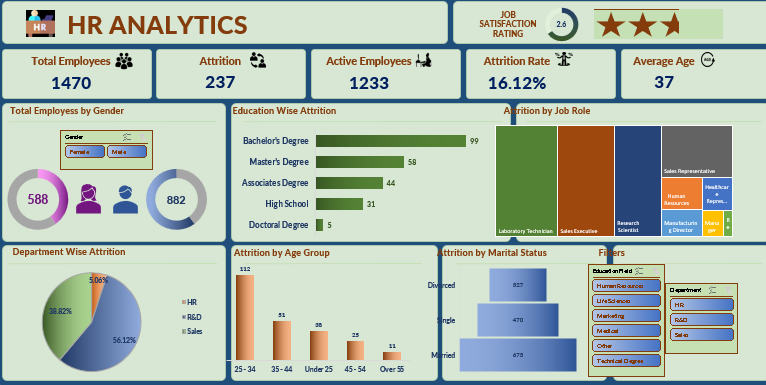

Layout of this report page (visuals, bound fields, positions):
{"tool":"powerbi","page":{"name":"HR Analytics Dashboard","canvas":[1280,720],"ordinal":0},"visuals":[{"type":"card","title":"Overall Employees","fields":{"Values":["Sum(HR data.Employee Count)"]},"box":[8.3,61.5,239.9,99.1],"z":0},{"type":"card","title":"Attrition ","fields":{"Values":["Sum(HR data.Attrition Count)"]},"box":[264.9,61.5,239.9,100.1],"z":1000},{"type":"card","title":"Attrition Rate","fields":{"Values":["HR data.Attrition Rate"]},"box":[520.4,61.5,240.9,99.1],"z":2000},{"type":"card","title":"Active Employees","fields":{"Values":["HR data.Active employees"]},"box":[778,61.5,239.9,100.1],"z":3000},{"type":"card","title":"Average Age","fields":{"Values":["Avg(HR data.Age)"]},"box":[1031.4,61.5,239.9,100.1],"z":4000},{"type":"pieChart","title":"Department Wise Employee Attrition","fields":{"Category":["HR data.Department"],"Y":["Sum(HR data.Attrition Count)"]},"box":[8.4,175.8,370.2,272.1],"z":5000},{"type":"columnChart","title":"# of Employees by Age Group","fields":{"Category":["HR data.CF_age band"],"Y":["Sum(HR data.Employee Count)"],"Series":["HR data.Gender"]},"box":[407.6,175.8,370.2,272.1],"z":6000},{"type":"pivotTable","title":"Job Satisfaction Rating","fields":{"Rows":["HR data.Job Role"],"Columns":["HR data.Job Satisfaction"],"Values":["Sum(HR data.Employee Count)"]},"box":[809,175.8,461.8,269],"z":7000},{"type":"barChart","title":"Education Field Wise Employee Attrition","fields":{"Category":["HR data.Education Field"],"Y":["Sum(HR data.Attrition Count)"]},"box":[9.3,461.8,369.3,244.9],"z":8000},{"type":"donutChart","title":"Under 25","fields":{"Category":["HR data.Gender"],"Y":["Sum(HR data.Attrition Count)"],"Series":["HR data.CF_age band"]},"box":[395.5,502,174.8,204.7],"z":9000},{"type":"textbox","title":"Attrition Rate by Gender for Different Age Groups","box":[395.5,461.8,874.1,32.7],"z":10000},{"type":"donutChart","title":"25-34","fields":{"Category":["HR data.Gender"],"Y":["Sum(HR data.Attrition Count)"],"Series":["HR data.CF_age band"]},"box":[570.3,502,174.8,204.7],"z":11000},{"type":"donutChart","title":"35-44","fields":{"Category":["HR data.Gender"],"Y":["Sum(HR data.Attrition Count)"],"Series":["HR data.CF_age band"]},"box":[745.1,503,174.8,204.7],"z":12000},{"type":"donutChart","title":"45-54","fields":{"Category":["HR data.Gender"],"Y":["Sum(HR data.Attrition Count)"],"Series":["HR data.CF_age band"]},"box":[919.9,503,174.8,204.7],"z":13000},{"type":"donutChart","title":"Over 55","fields":{"Category":["HR data.Gender"],"Y":["Sum(HR data.Attrition Count)"],"Series":["HR data.CF_age band"]},"box":[1094.8,502,174.8,204.7],"z":14000},{"type":"card","fields":{"Values":["Sum(HR data.Attrition Count)"]},"box":[1160.2,597.4,45.8,33.7],"z":19000},{"type":"textbox","box":[9.4,4.2,324.3,53.2],"z":20000},{"type":"slicer","fields":{"Values":["HR data.Education"]},"box":[358.7,4.2,911.4,53],"z":21000}]}

Visuals, with their boxes on the page's 1280x720 design canvas (x1, y1, x2, y2). These are canvas units, not pixel positions in the 766x385 screenshot, which may show the page scaled, cropped or inside an application window:
"Overall Employees" card: bbox=(8, 62, 248, 161)
"Attrition " card: bbox=(265, 62, 505, 162)
"Attrition Rate" card: bbox=(520, 62, 761, 161)
"Active Employees" card: bbox=(778, 62, 1018, 162)
"Average Age" card: bbox=(1031, 62, 1271, 162)
"Department Wise Employee Attrition" pieChart: bbox=(8, 176, 379, 448)
"# of Employees by Age Group" columnChart: bbox=(408, 176, 778, 448)
"Job Satisfaction Rating" pivotTable: bbox=(809, 176, 1271, 445)
"Education Field Wise Employee Attrition" barChart: bbox=(9, 462, 379, 707)
"Under 25" donutChart: bbox=(396, 502, 570, 707)
"Attrition Rate by Gender for Different Age Groups" textbox: bbox=(396, 462, 1270, 494)
"25-34" donutChart: bbox=(570, 502, 745, 707)
"35-44" donutChart: bbox=(745, 503, 920, 708)
"45-54" donutChart: bbox=(920, 503, 1095, 708)
"Over 55" donutChart: bbox=(1095, 502, 1270, 707)
card - Sum(HR data.Attrition Count): bbox=(1160, 597, 1206, 631)
textbox: bbox=(9, 4, 334, 57)
slicer - HR data.Education: bbox=(359, 4, 1270, 57)
